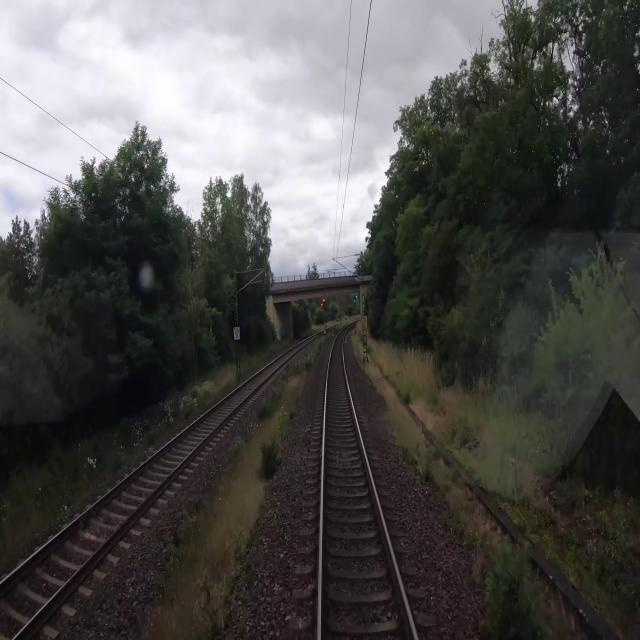Plant: (143, 334, 329, 639), (479, 542, 536, 639), (234, 619, 247, 637)
